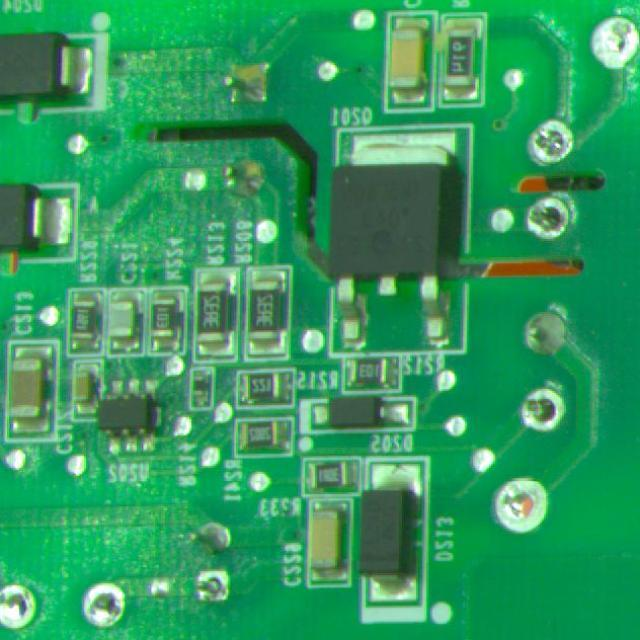oppostie_direction: (494, 478, 548, 533), (591, 18, 639, 68), (528, 119, 574, 163), (82, 582, 125, 627), (526, 196, 569, 239), (521, 389, 565, 431), (525, 312, 565, 354), (0, 585, 36, 629), (196, 570, 229, 602), (198, 523, 231, 551)
